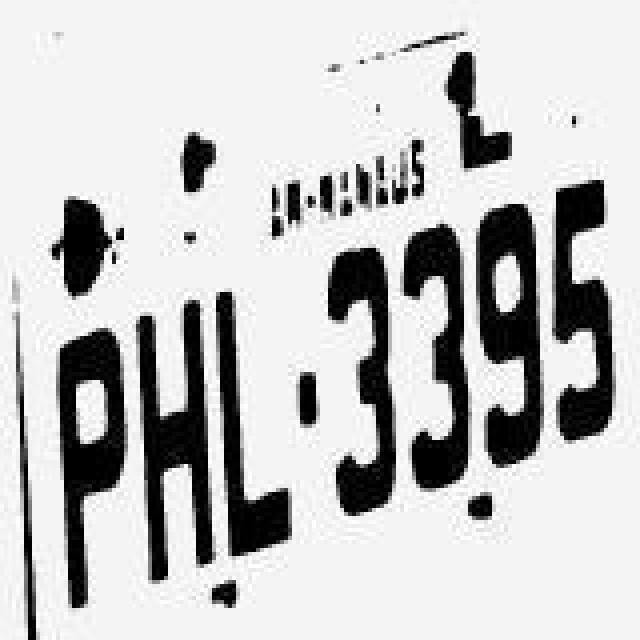3: (396, 218, 476, 502), (322, 240, 398, 528)
5: (544, 176, 640, 456)
9: (470, 198, 554, 474)
H: (134, 296, 218, 584)
L: (212, 288, 300, 560)
P: (48, 320, 128, 608)
